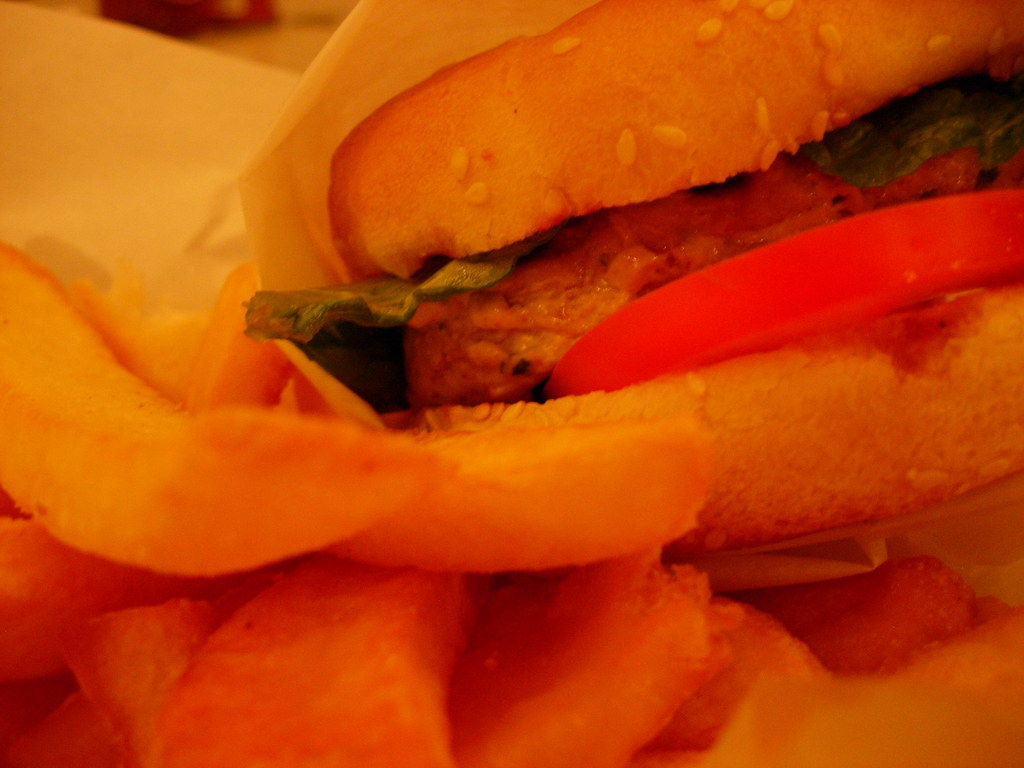Hamburger: (244, 0, 1023, 554)
